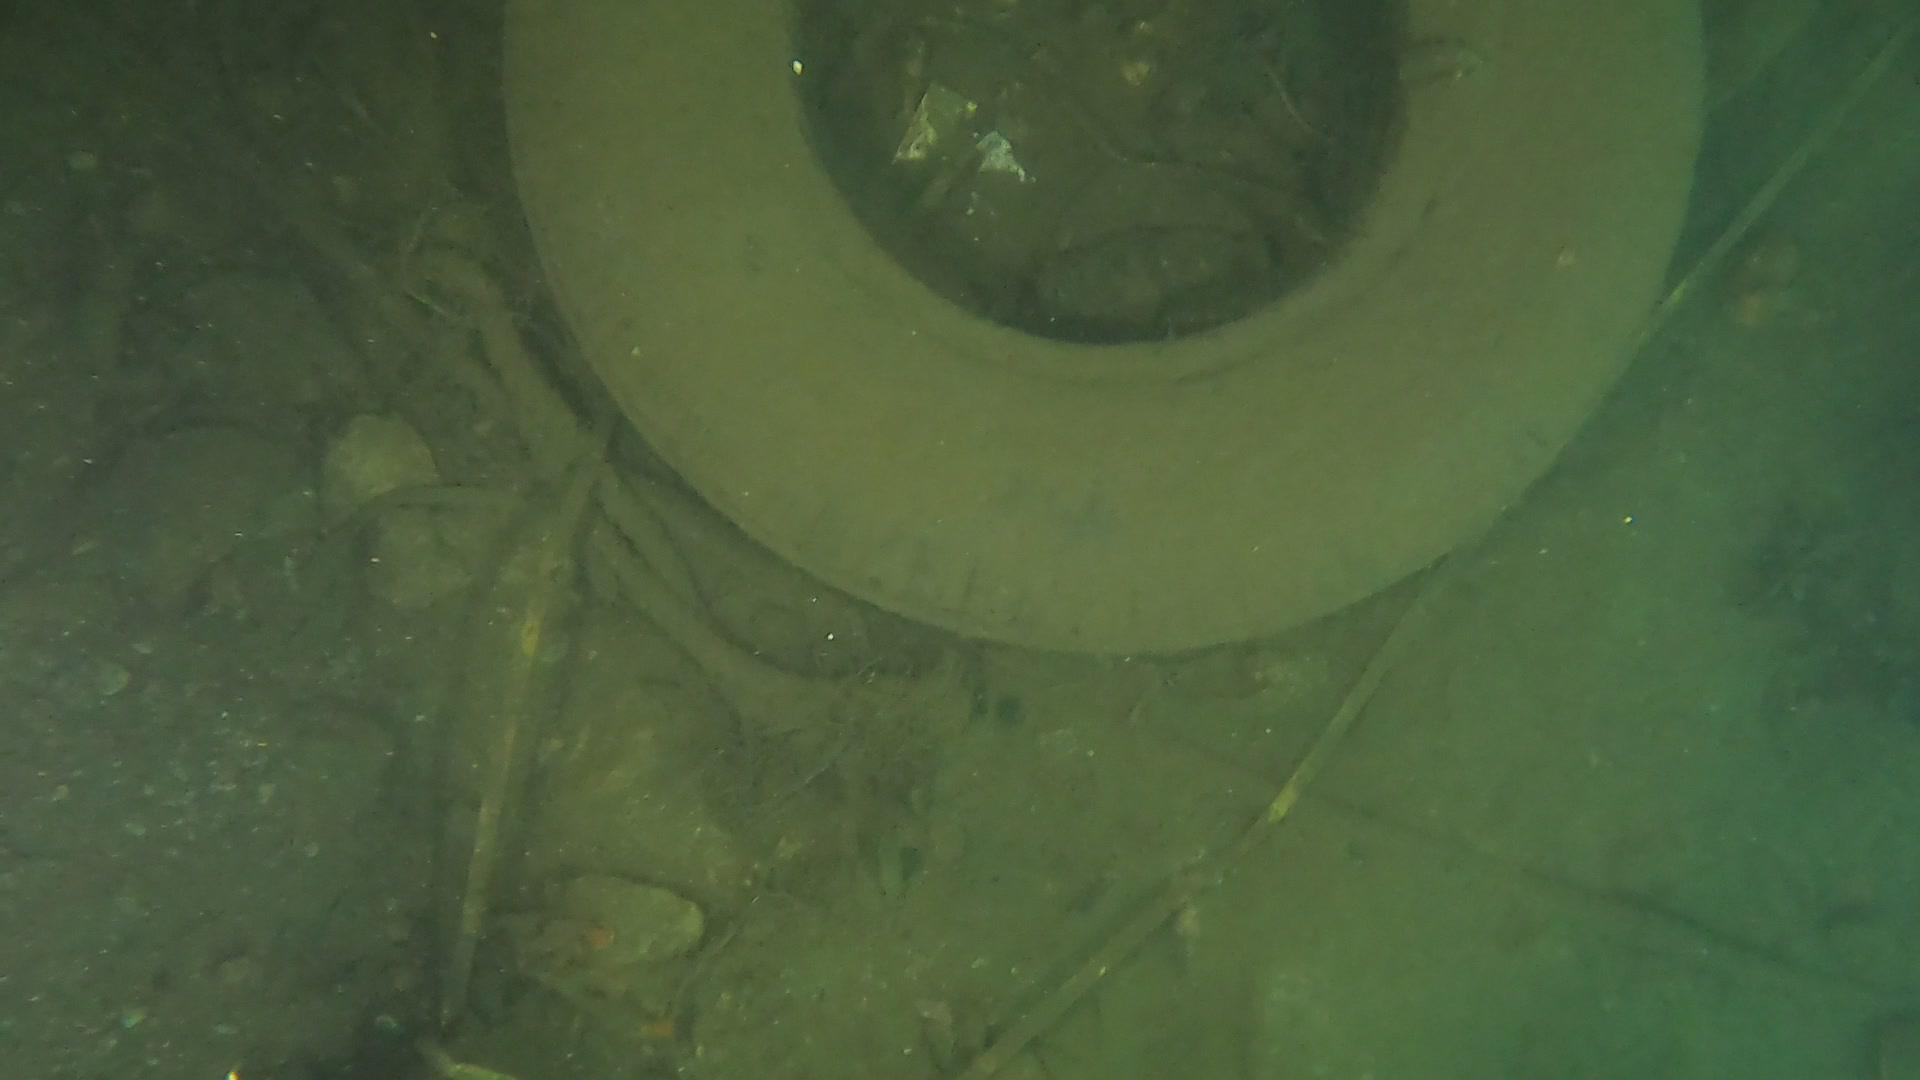bundle of ropes: (419, 244, 820, 738)
tire: (498, 0, 1712, 655)
